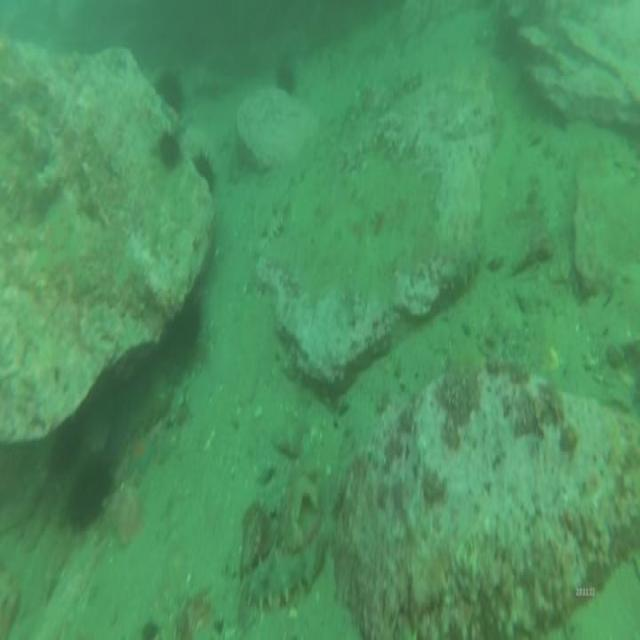echinus: (61, 438, 119, 540), (152, 62, 191, 122), (152, 122, 191, 175), (188, 140, 222, 200)
holothurian: (247, 542, 326, 608)
